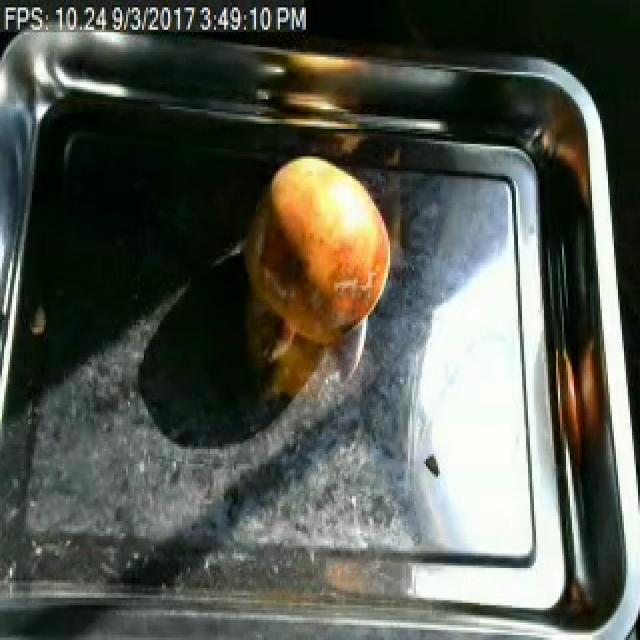fruit: (244, 149, 400, 360)
